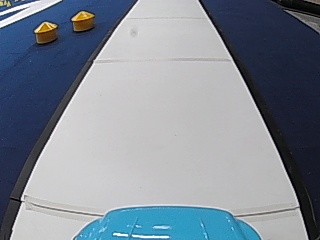granary: (32, 20, 57, 44), (69, 8, 94, 31)
